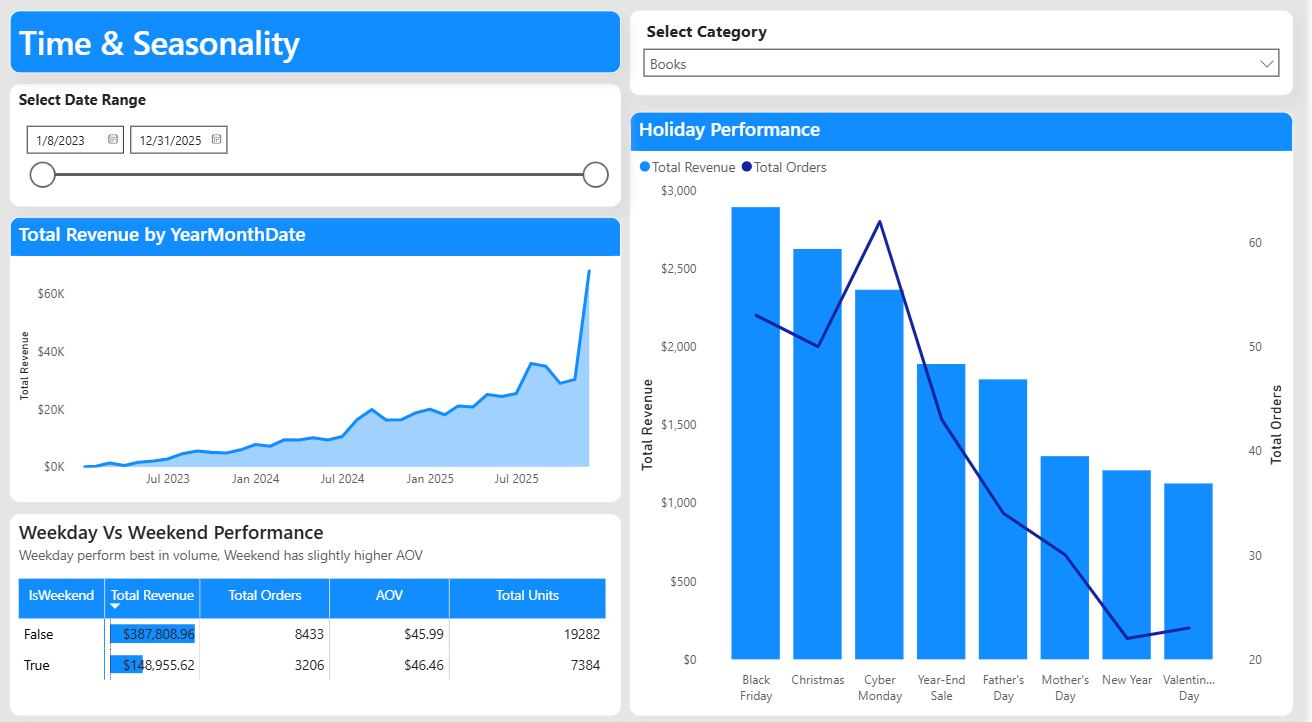

This screenshot's page, from the dashboard's own definition file:
{"tool":"powerbi","page":{"name":"Time & Seasonality","canvas":[1280,720],"ordinal":2},"visuals":[{"type":"areaChart","fields":{"Category":["DimDate.YearMonthDate"],"Y":["_Measures (2).Total Revenue"]},"box":[8.6,219.6,600,279.8],"z":0},{"type":"pivotTable","title":"Weekday Vs Weekend Performance","fields":{"Rows":["DimDate.IsWeekend"],"Values":["_Measures (2).Total Revenue","_Measures (2).Total Orders","_Measures (2).AOV","_Measures (2).Total Units"]},"box":[8.6,511.7,600,197.5],"z":1000},{"type":"lineStackedColumnComboChart","title":"Holiday Performance","fields":{"Category":["fct_sales_flat.holiday_name"],"Y":["_Measures (2).Total Revenue"],"Y2":["_Measures (2).Total Orders"]},"box":[617.2,116.6,651.5,592.6],"z":2000},{"type":"slicer","title":"Select Category","fields":{"Values":["fct_sales_flat.category_name"]},"box":[617.2,17.2,651.5,83.4],"z":3000},{"type":"slicer","title":"Select Date Range","fields":{"Values":["DimDate.Date"]},"box":[8.6,89.6,600,120.2],"z":4000},{"type":"textbox","box":[8.6,17.2,600,61.4],"z":5000}]}

Visuals, with their boxes in screenshot pixels (x1, y1, x2, y2), scaled from the page's 1280x720 canvas onto the 1312x722 screenshot:
areaChart - DimDate.YearMonthDate x _Measures (2).Total Revenue: rect(9, 220, 624, 501)
"Weekday Vs Weekend Performance" pivotTable: rect(9, 513, 624, 711)
"Holiday Performance" lineStackedColumnComboChart: rect(633, 117, 1300, 711)
"Select Category" slicer: rect(633, 17, 1300, 101)
"Select Date Range" slicer: rect(9, 90, 624, 210)
textbox: rect(9, 17, 624, 79)
